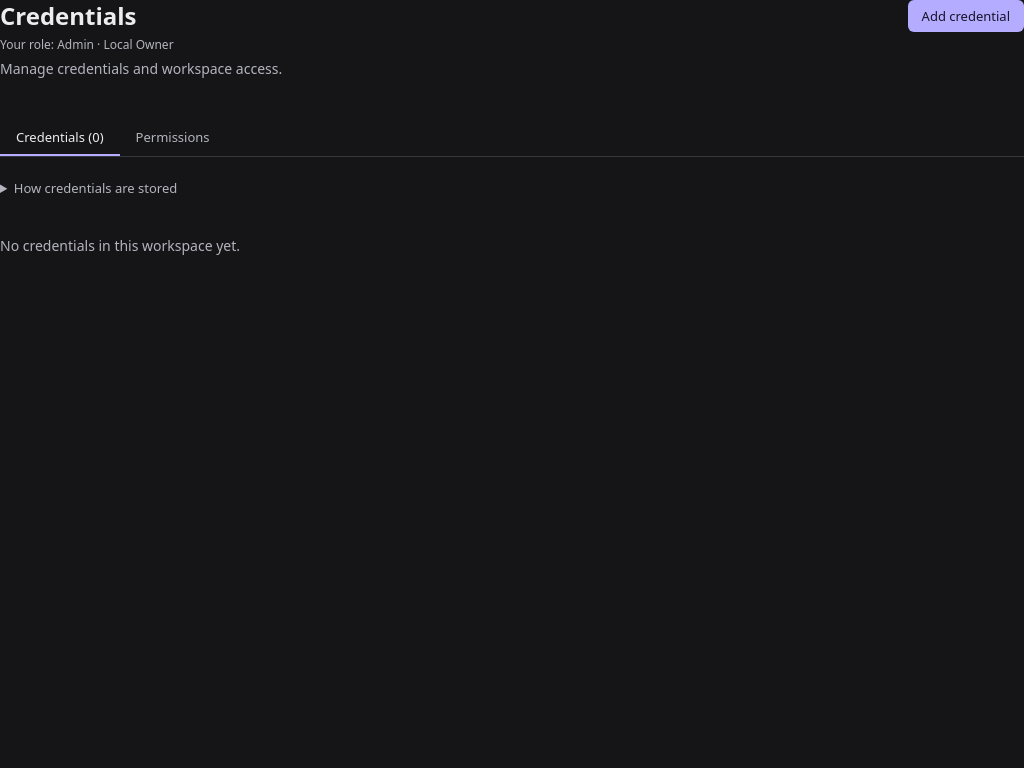
Test case: P28 step 7 local credentials › says which characters a credential ID may use before sending it
Click the button with test id "register-credential-button" at (966,16), box x1=908 y1=0 x2=1023 y2=32
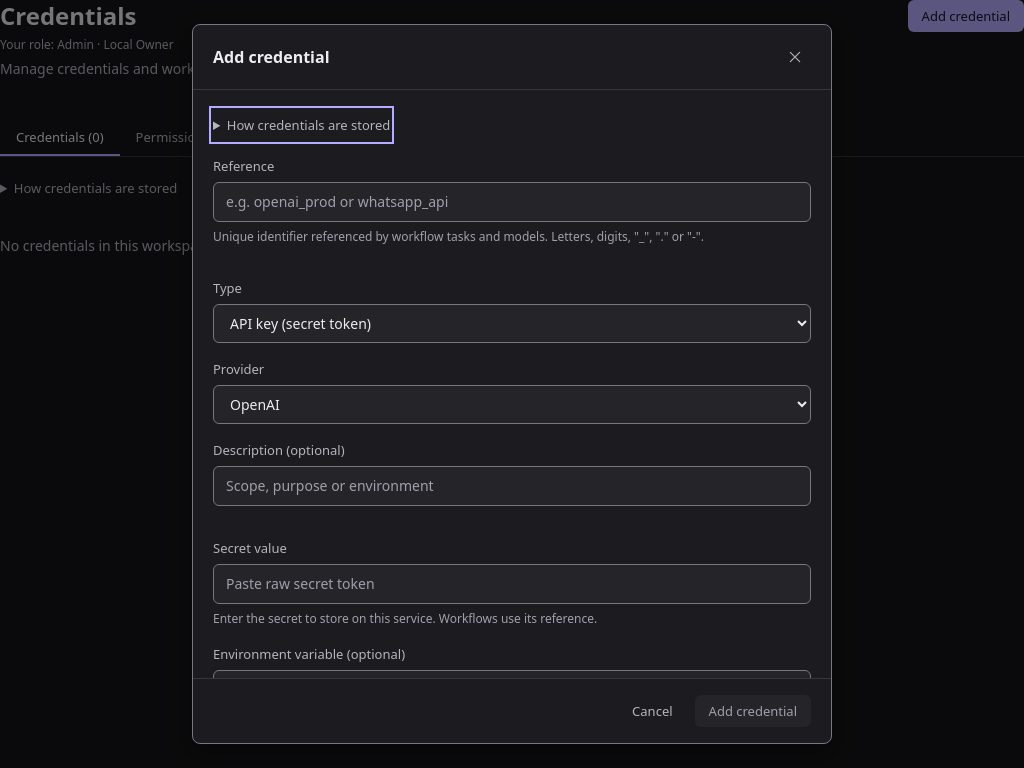
Type "my key!" into the field with test id "cred-id-input" at (512,202), box x1=213 y1=182 x2=811 y2=222
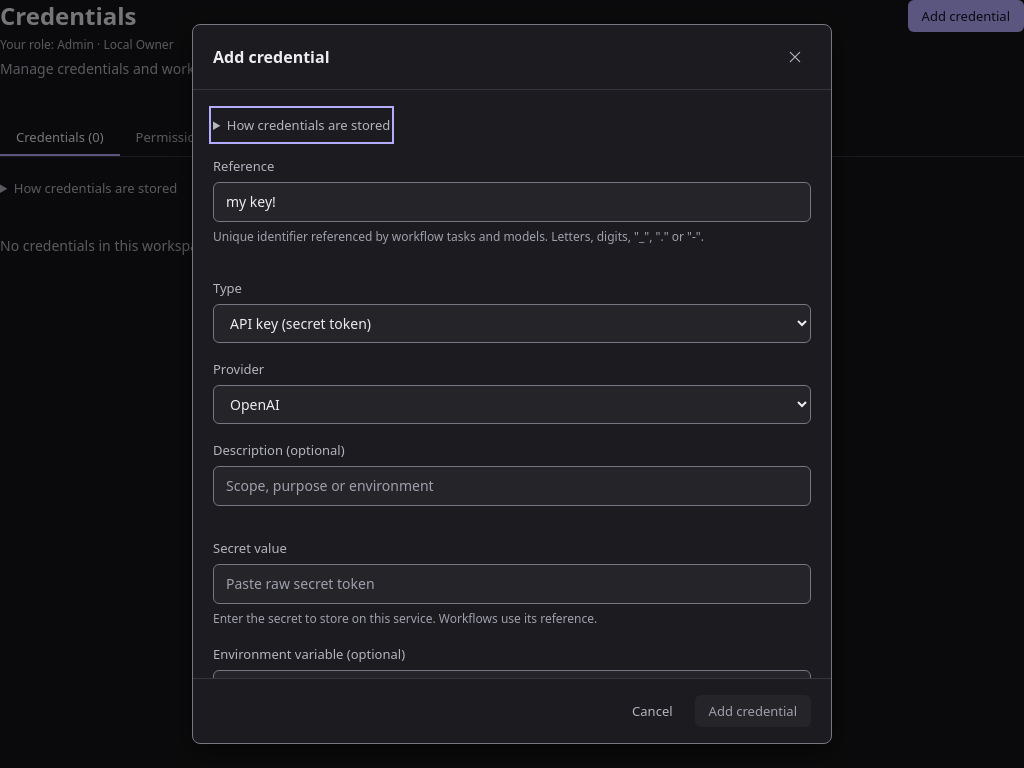
Type "not-a-real-secret" into the password field with test id "cred-secret-input" at (512,584), box x1=213 y1=564 x2=811 y2=604
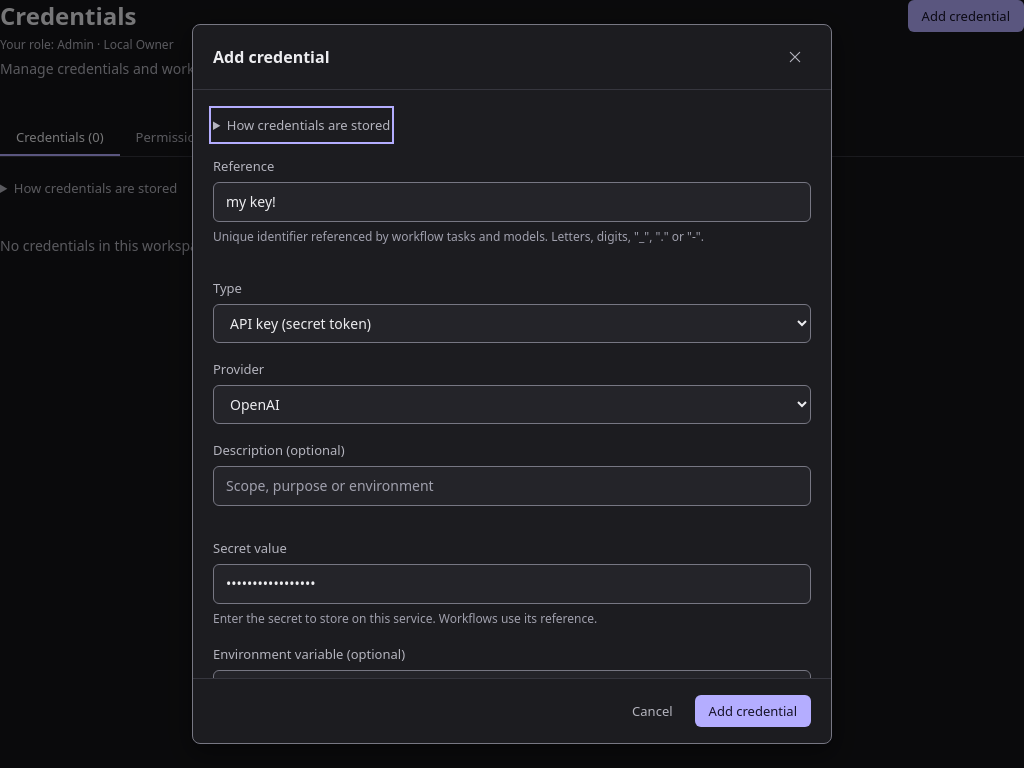
Submit the form with test id "register-credential-form", box x1=213 y1=110 x2=811 y2=750
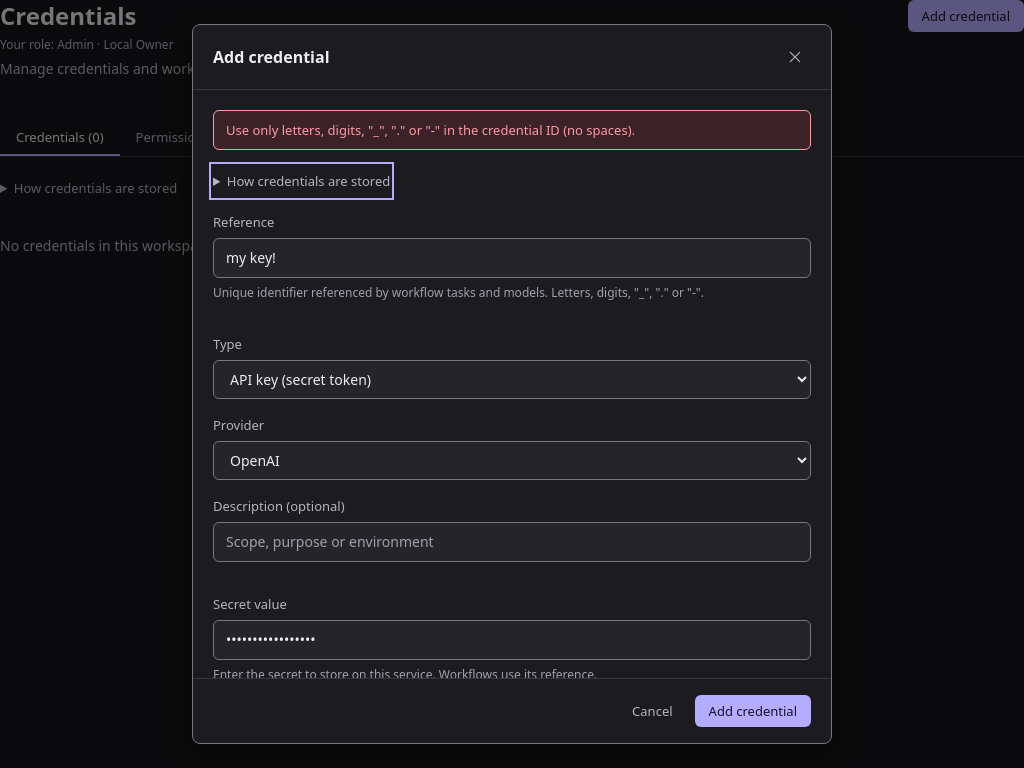
Check: the message with test id "credential-form-error" shows "letters, digits", box x1=226 y1=121 x2=635 y2=139
